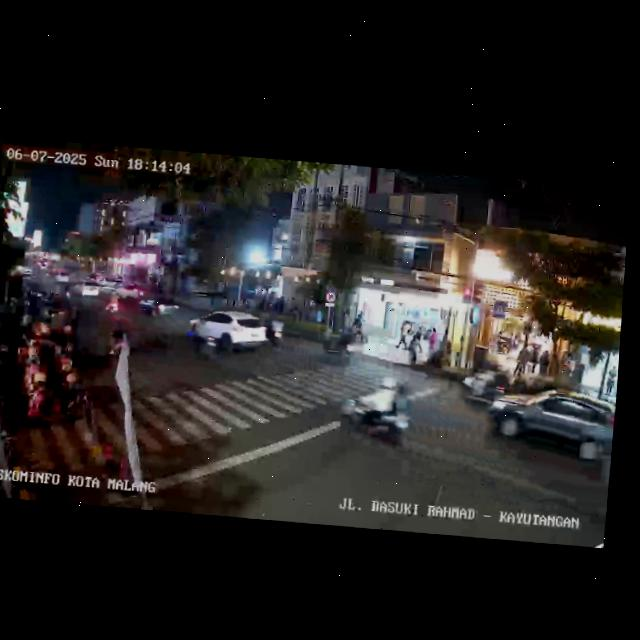car: (483, 386, 615, 470), (187, 306, 273, 358), (137, 292, 181, 320), (71, 278, 104, 301), (112, 282, 141, 303)
motorcycle: (335, 374, 419, 454), (458, 362, 510, 407), (184, 318, 221, 365), (106, 325, 130, 356), (265, 316, 285, 351), (100, 289, 121, 318)
person: (512, 342, 529, 378), (396, 318, 411, 351), (604, 364, 618, 398), (407, 333, 421, 365), (524, 343, 537, 377), (425, 327, 438, 360), (536, 347, 550, 377), (441, 336, 454, 368), (354, 308, 366, 325)
